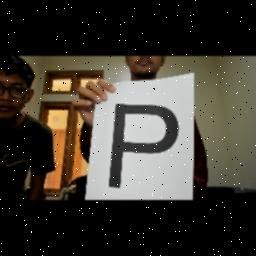p: (104, 95, 188, 191)
